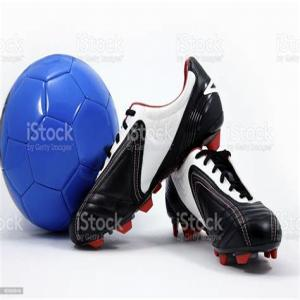Football: (0, 52, 122, 242)
